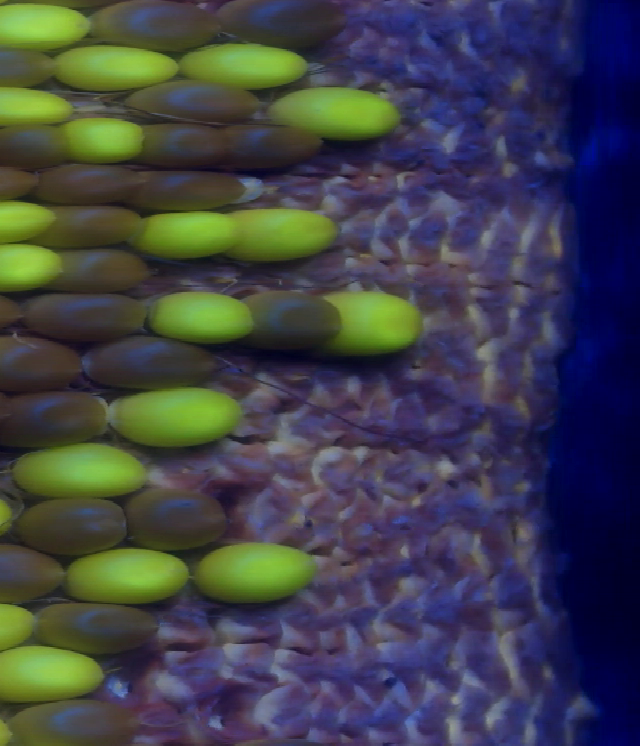fluorescent: (196, 542, 322, 613), (106, 386, 244, 449), (221, 200, 345, 263), (317, 290, 434, 355), (273, 88, 402, 145), (61, 553, 196, 606), (13, 446, 153, 497), (144, 288, 261, 347), (185, 41, 306, 93), (129, 210, 243, 264), (0, 649, 109, 701), (57, 47, 170, 89), (0, 2, 94, 48), (0, 81, 80, 131), (60, 117, 143, 165), (0, 240, 68, 293), (0, 601, 44, 660), (0, 199, 55, 242)
nonfluorescent: (83, 328, 223, 388), (117, 482, 228, 557), (29, 595, 166, 655), (241, 293, 359, 359), (16, 497, 133, 560), (121, 79, 274, 127), (219, 1, 361, 52), (1, 696, 145, 746), (0, 387, 114, 448), (91, 1, 227, 51), (25, 290, 154, 342), (225, 121, 321, 180), (49, 245, 156, 296), (0, 541, 78, 607), (34, 205, 154, 247), (140, 168, 248, 214), (0, 335, 95, 387), (144, 121, 239, 169), (40, 163, 144, 200), (0, 45, 71, 94), (0, 121, 70, 163), (0, 283, 30, 338), (0, 167, 37, 204)
